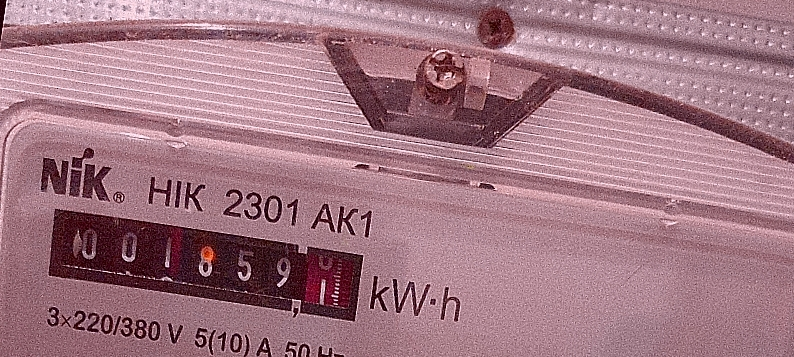0: (77, 225, 101, 263), (116, 228, 140, 264)
1: (159, 233, 176, 270), (313, 274, 330, 306)
5: (232, 246, 257, 284)
8: (193, 242, 218, 279)
9: (270, 253, 294, 290)
screen: (32, 194, 377, 333)
